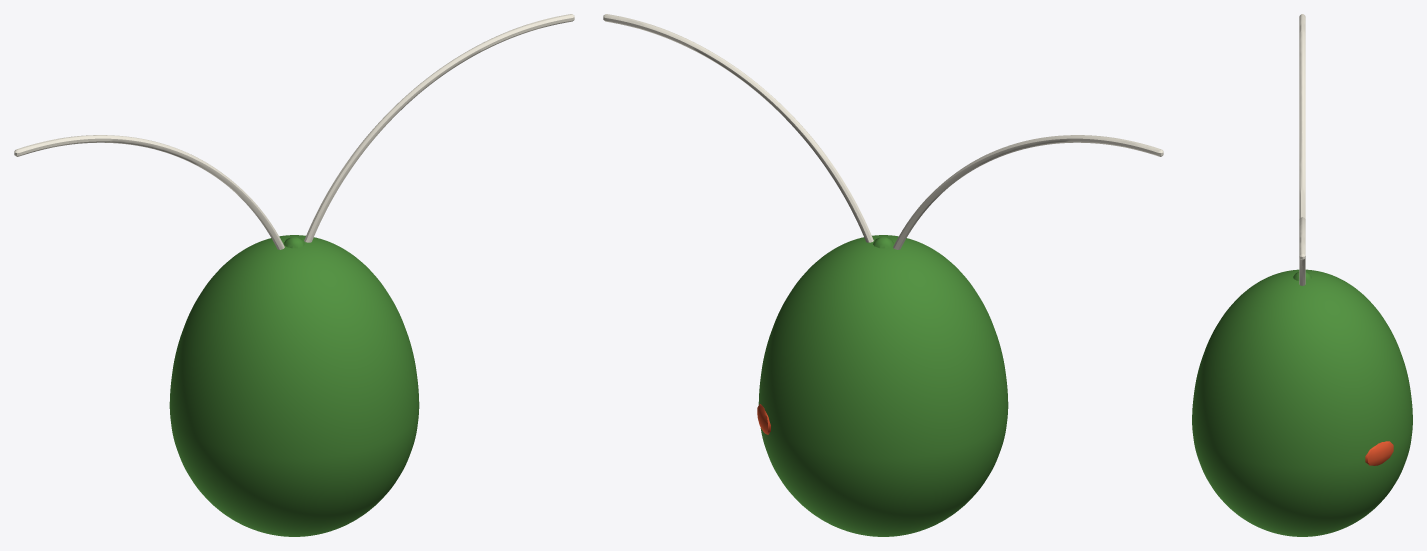
File: chlamydomonas.glb
The picture shows the model from 3 angles, left to right: view 1: azimuth 30°, elevation 25°; view 2: azimuth 150°, elevation 25°; view 3: azimuth 270°, elevation 25°; orthographic projection. The views are drawn at different scales.
Visible parts, largest first — view 1: cell, flagella; view 2: cell, flagella; view 3: cell, flagella, eyespot.
Part boxes in pixels (x1,y1,x2,y2): cell: (169,235,419,536); flagella: (14,14,574,249); cell: (758,235,1008,536); flagella: (603,14,1163,249); cell: (1192,269,1412,536); flagella: (1299,14,1305,285); eyespot: (1365,441,1393,465).
Size of the model in its own units: 0.1037 by 0.0787 by 0.04.
